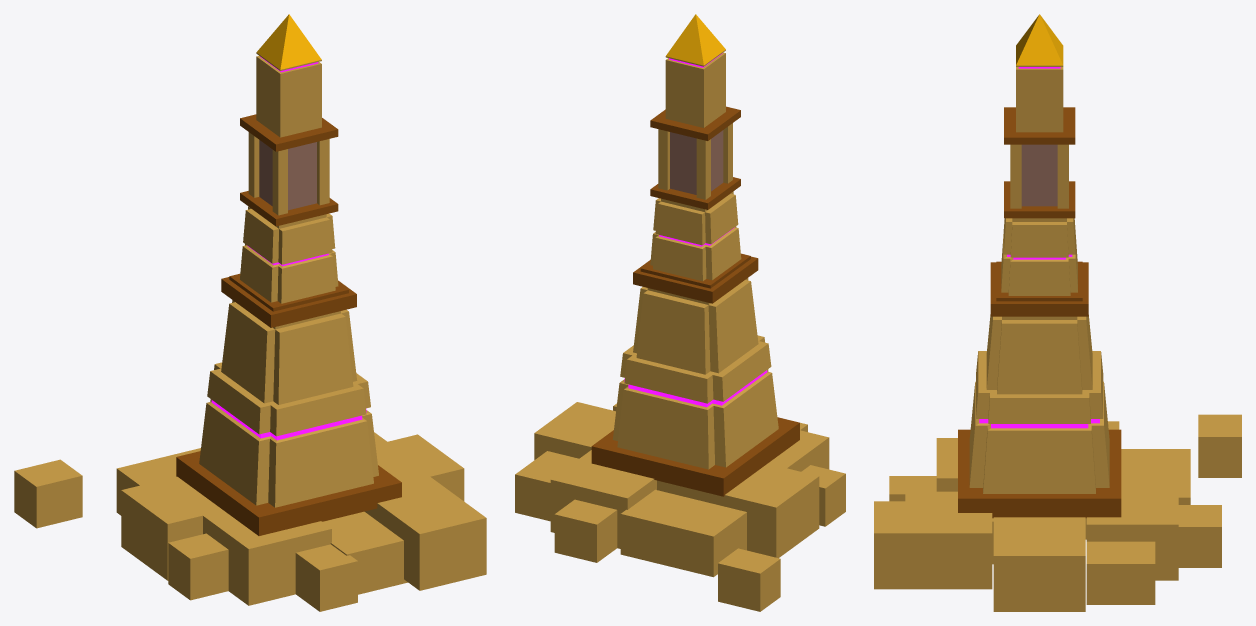
File: Obelisk 3.fbx
3 views of the same model, side by side, from view 1: azimuth 30°, elevation 25°; view 2: azimuth 150°, elevation 25°; view 3: azimuth 270°, elevation 25° (orthographic). The views are drawn at different scales.
Visible parts, largest first — view 1: Cube.209; view 2: Cube.209; view 3: Cube.209.
Part boxes in pixels (bbox=[...]): Cube.209: bbox=[14, 14, 486, 611]; Cube.209: bbox=[515, 14, 845, 611]; Cube.209: bbox=[874, 14, 1241, 611].
Bounding box in the file's own units: 17.07 × 26.73 × 16.98.
